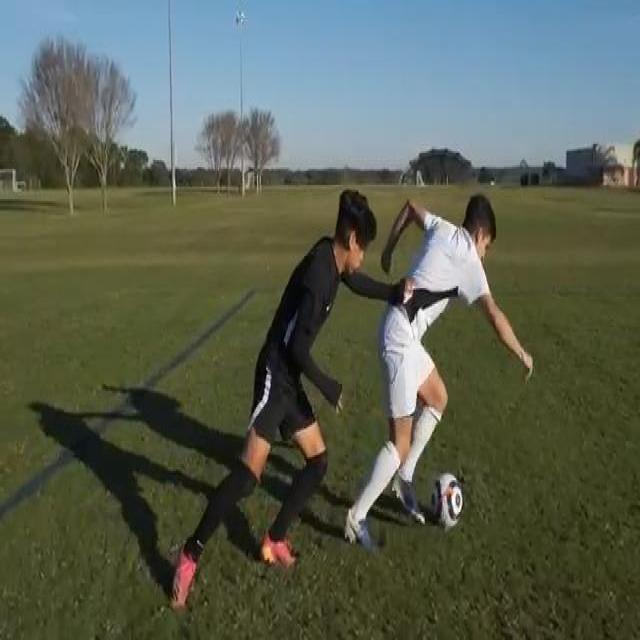Soccer Ball: (428, 471, 463, 532)
